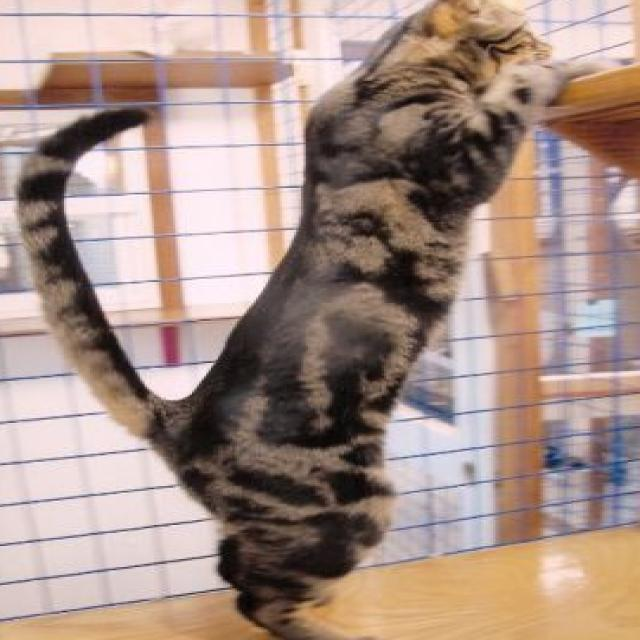Bengal: (7, 0, 571, 640)
